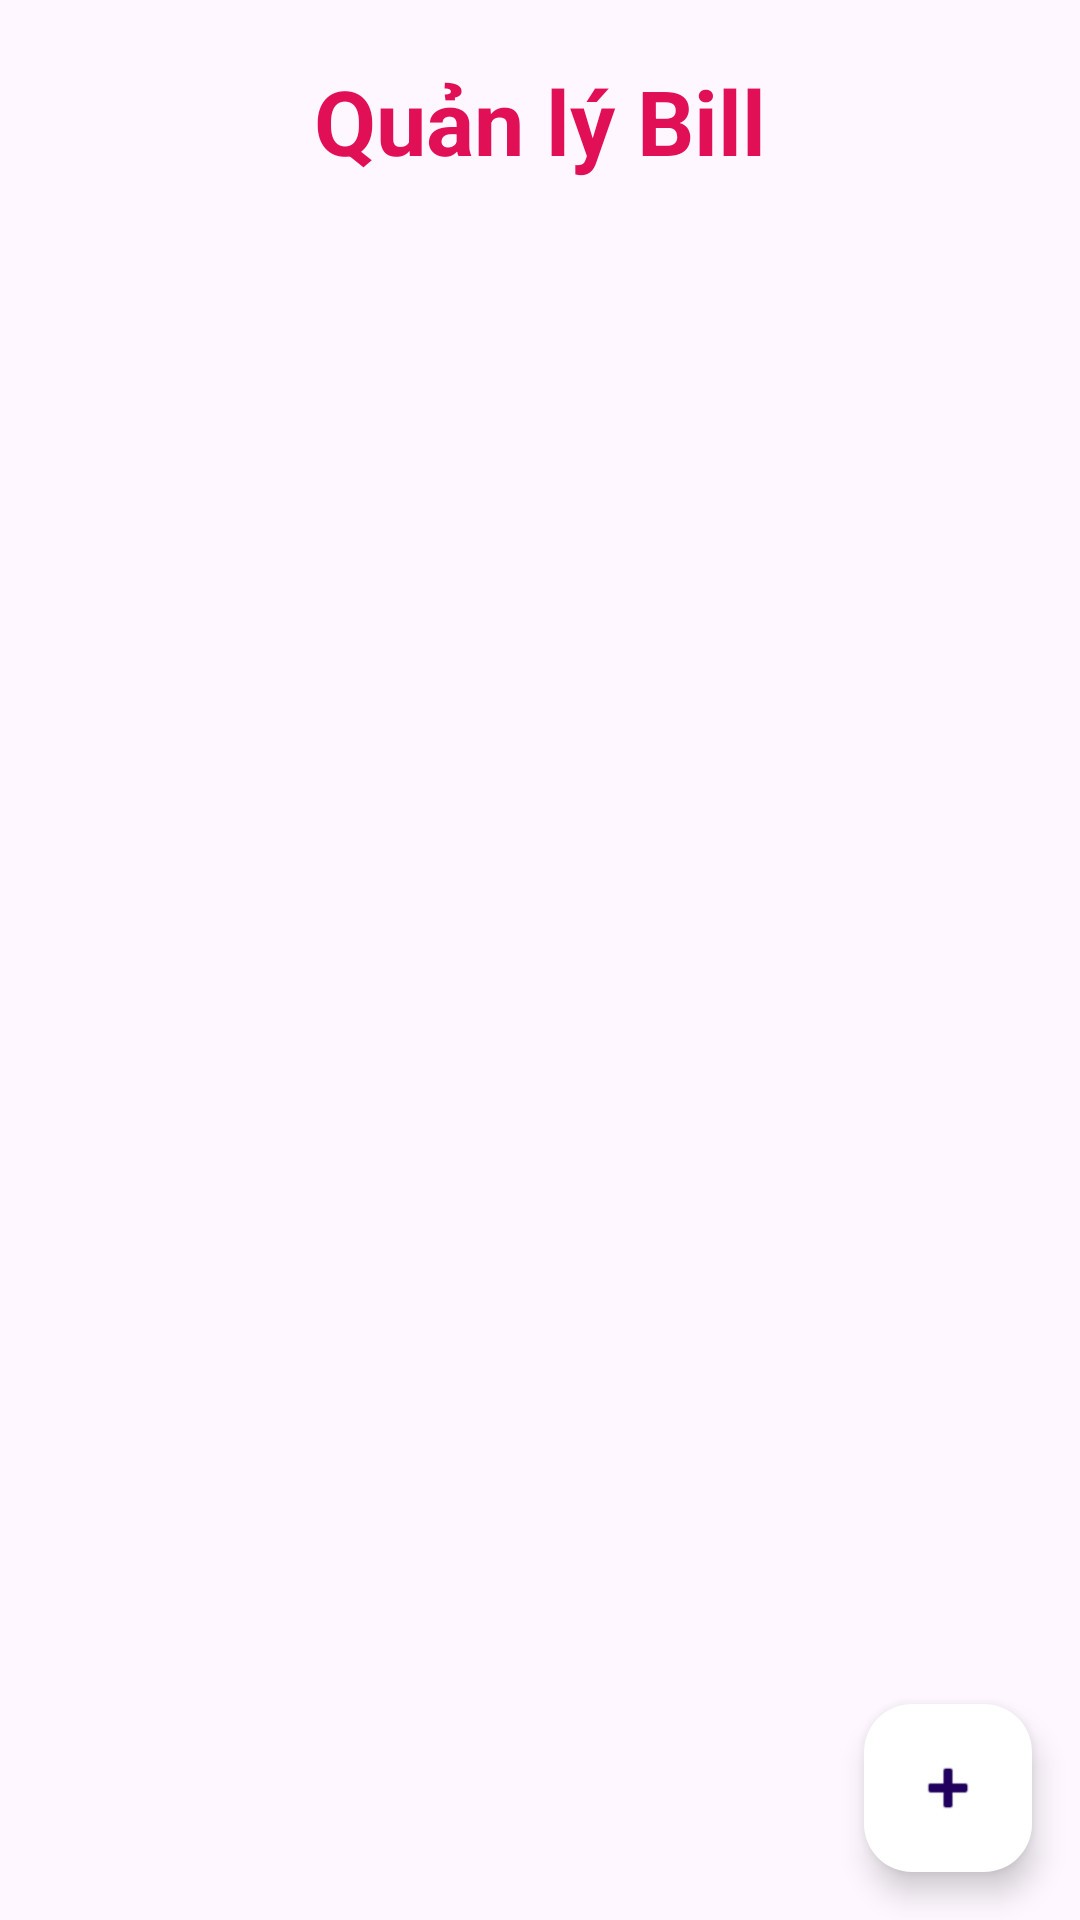

Point at icon controls on the screen. Image size 1080x1920, points as [x,y].
Thêm hóa đơn: [948,1788]
